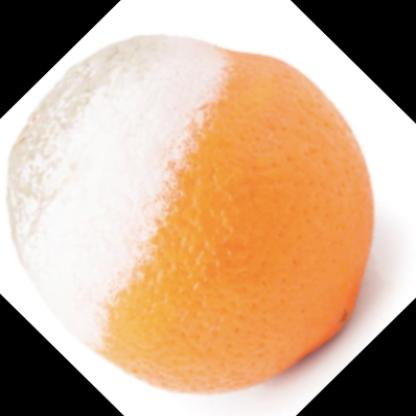rotten: (7, 39, 377, 394)
